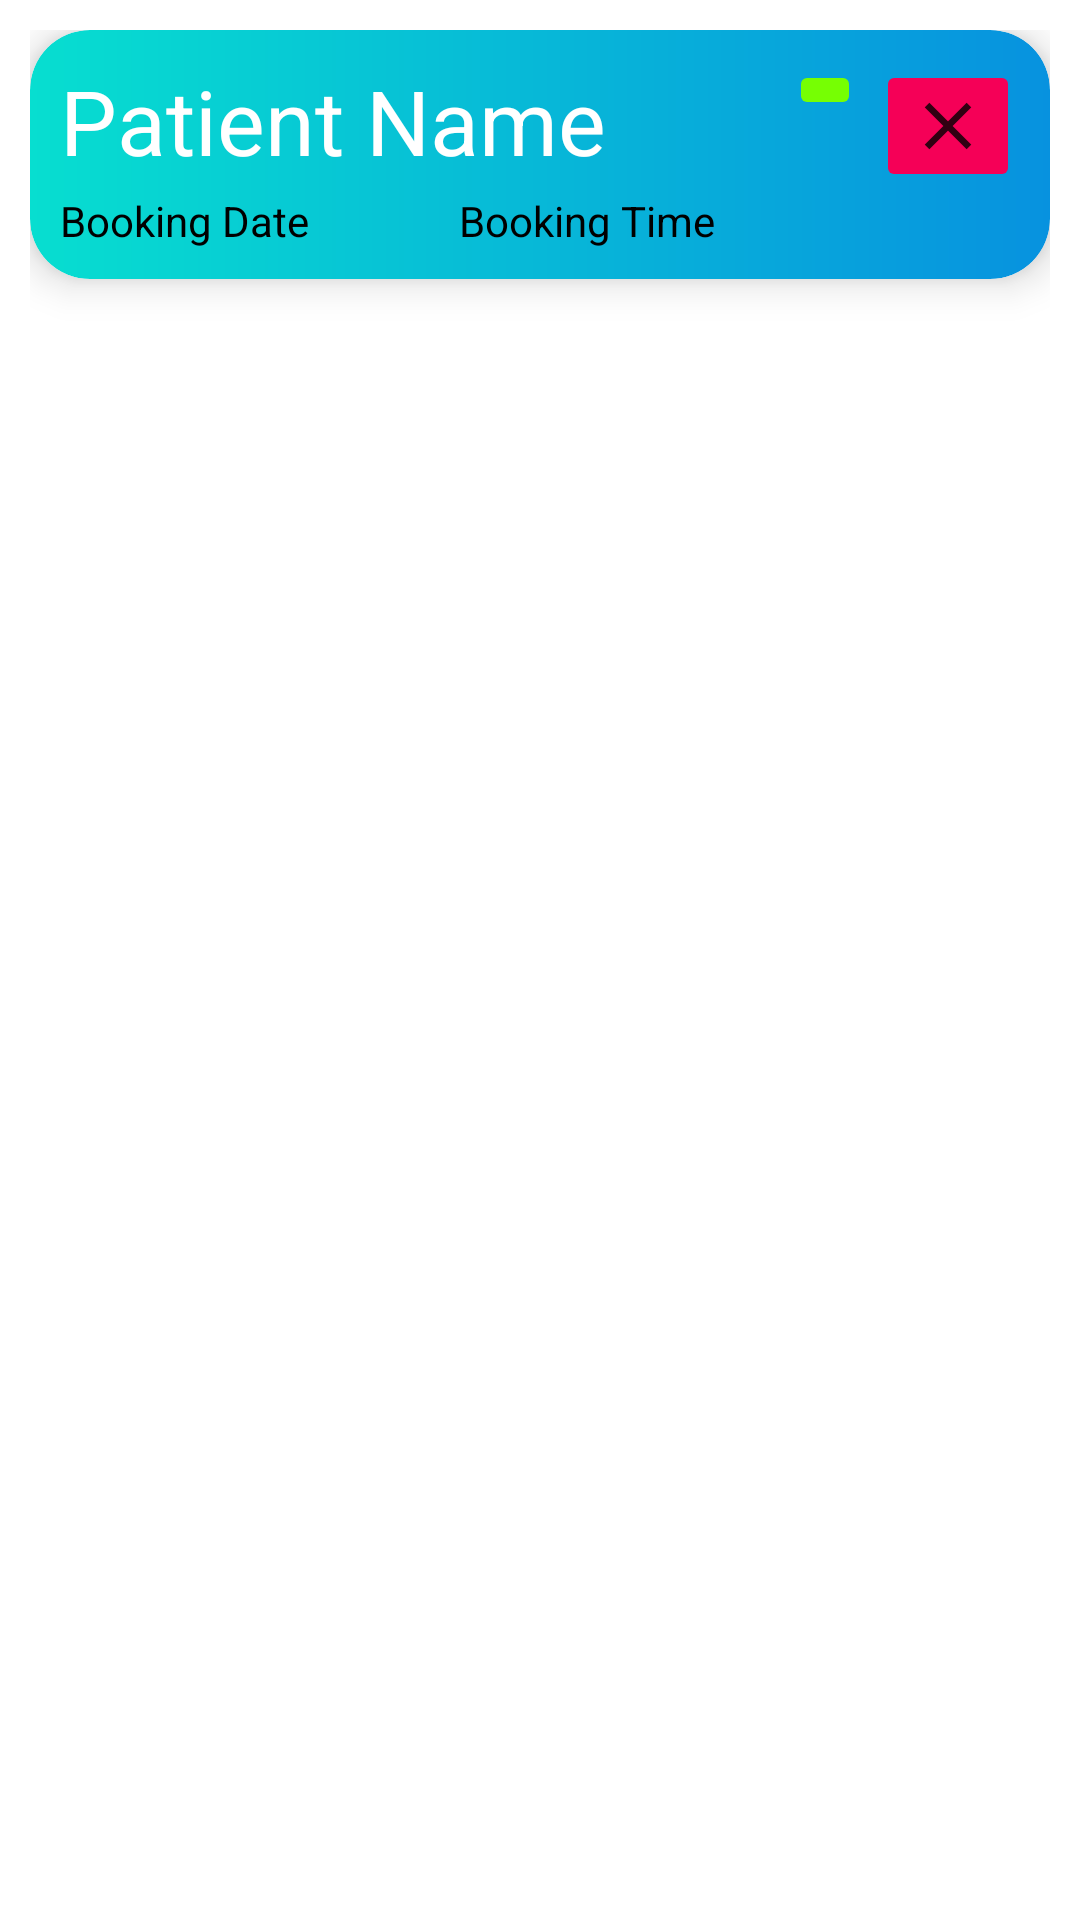

Where to tap for icons on this 1080 × 1920 app screen, as point (x, y):
wrong: point (948, 126)
